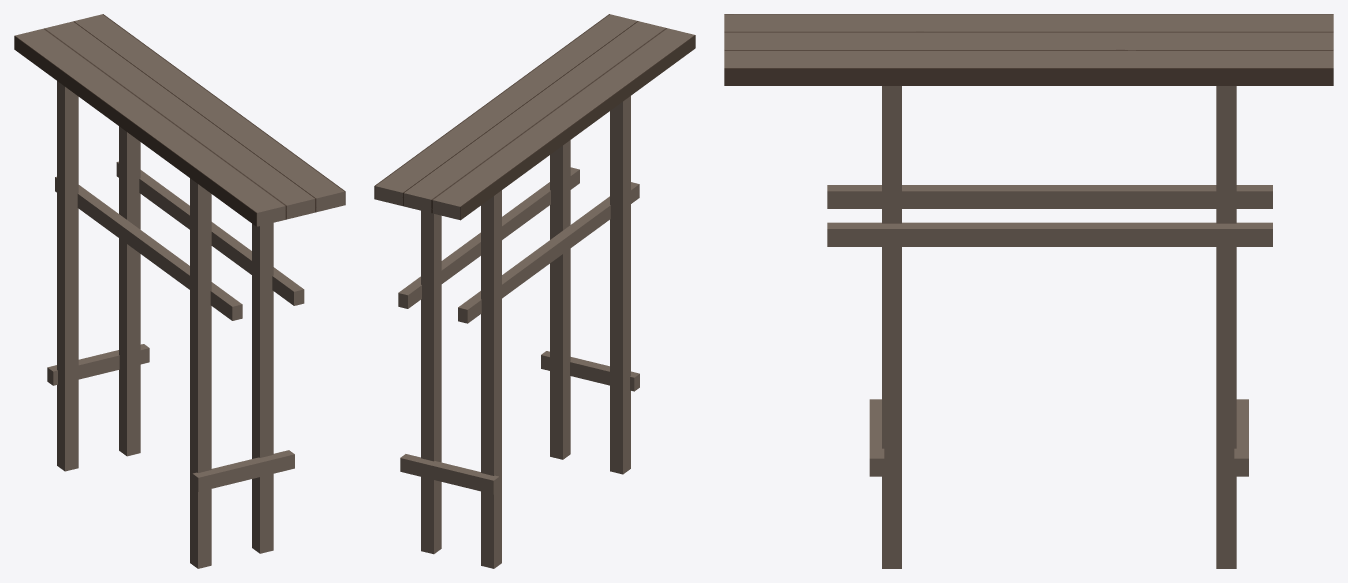
The model's file is platform_pt2.glb.
The picture shows the model from 3 angles, left to right: view 1: azimuth 30°, elevation 25°; view 2: azimuth 150°, elevation 25°; view 3: azimuth 270°, elevation 25°; orthographic projection. The views are drawn at different scales.
Parts seen in each view (by area): view 1: Object_2, Object_3; view 2: Object_2, Object_3; view 3: Object_3, Object_2.
Part boxes in pixels (x1,y1,x2,y2): Object_2: (47, 81, 304, 568); Object_3: (14, 14, 345, 226); Object_2: (398, 96, 639, 568); Object_3: (374, 14, 695, 220); Object_3: (724, 14, 1333, 85); Object_2: (827, 86, 1272, 568).
Size of the model in its own units: 0.6729 by 2.68 by 2.92.
Materials: 2 (2 with a texture image).
